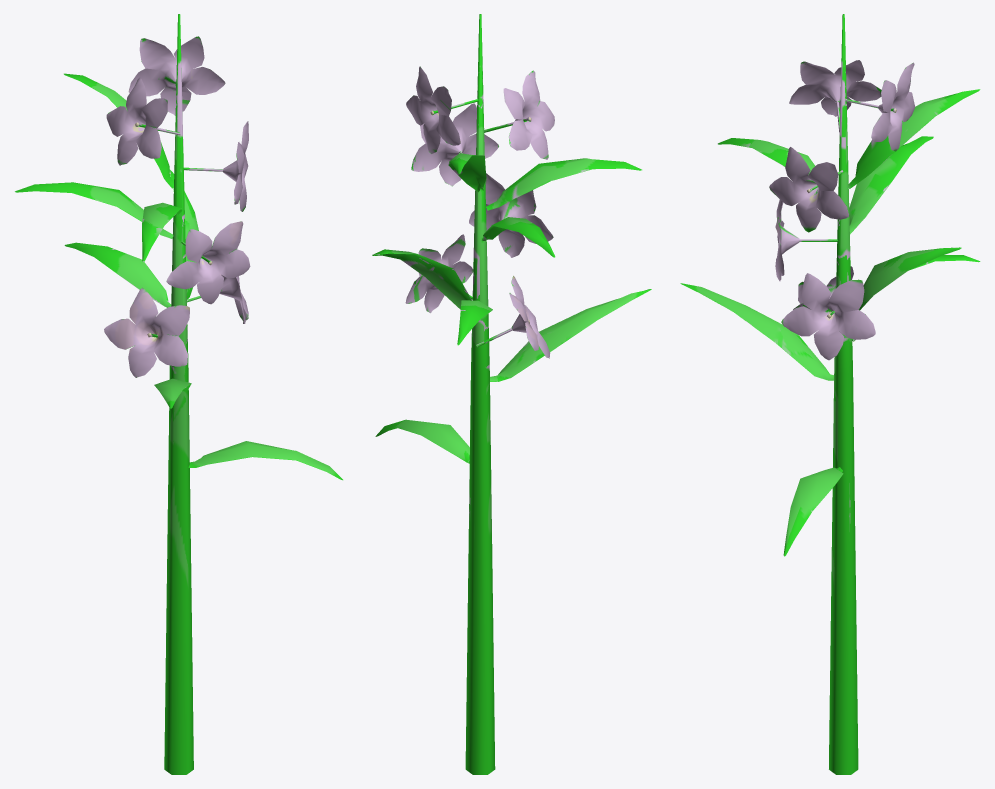
File: planta_blechum_spp.fbx
The picture shows the model from 3 angles, left to right: view 1: azimuth 30°, elevation 25°; view 2: azimuth 150°, elevation 25°; view 3: azimuth 270°, elevation 25°; orthographic projection.
Parts seen in each view (by area): view 1: Plane.025; view 2: Plane.025; view 3: Plane.025.
Part boxes in pixels (box(x1,y1,x2,y2)): Plane.025: box(15, 14, 342, 774); Plane.025: box(372, 14, 651, 774); Plane.025: box(680, 14, 980, 774).
Size of the model in its own units: 739 by 2096 by 755.
Materials: 1 (1 with a texture image).
